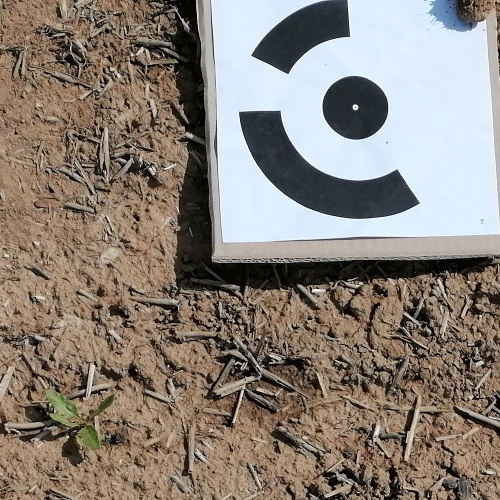beet: (46, 393, 116, 450)
